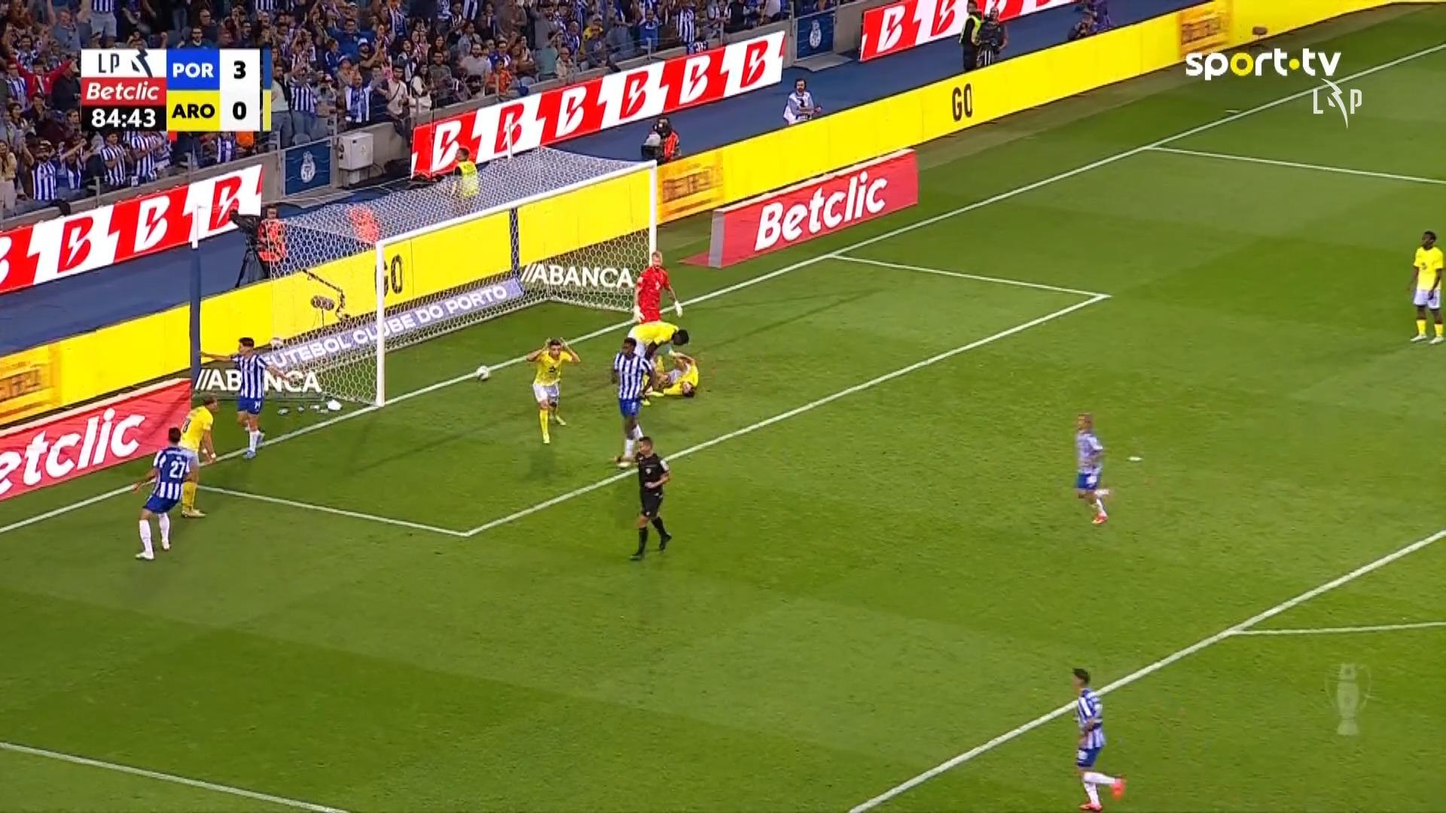ball: (672, 328, 688, 346), (680, 379, 694, 396), (476, 365, 490, 381)
goalkeeper: (630, 250, 684, 393)
player: (198, 335, 288, 459), (130, 426, 198, 561), (1069, 667, 1126, 811), (524, 336, 581, 444), (609, 336, 653, 467), (176, 392, 219, 518), (625, 320, 689, 399), (1072, 411, 1110, 525), (1406, 230, 1444, 344), (631, 249, 682, 324), (645, 350, 698, 398)
referee: (627, 435, 673, 561)
